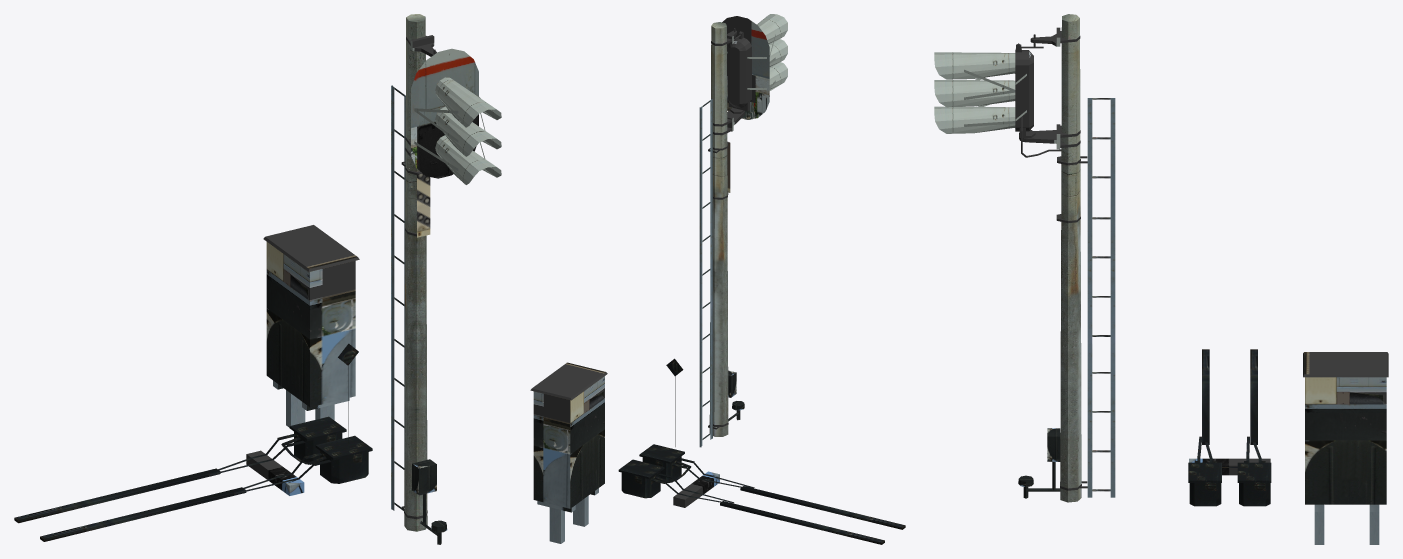
File: signal_pred.gltf
The picture shows the model from 3 angles, left to right: view 1: azimuth 30°, elevation 25°; view 2: azimuth 150°, elevation 25°; view 3: azimuth 270°, elevation 25°; orthographic projection. The views are drawn at different scales.
Parts seen in each view (by area): view 1: signal_pred; view 2: signal_pred; view 3: signal_pred.
Part boxes in pixels (left/top/right/bottom): signal_pred: left=14, top=14, right=501, bottom=544; signal_pred: left=530, top=14, right=905, bottom=544; signal_pred: left=934, top=14, right=1388, bottom=544.
Bounding box in the file's own units: 4.6 × 6.36 × 5.19.
Materials: 1 (1 with a texture image).
